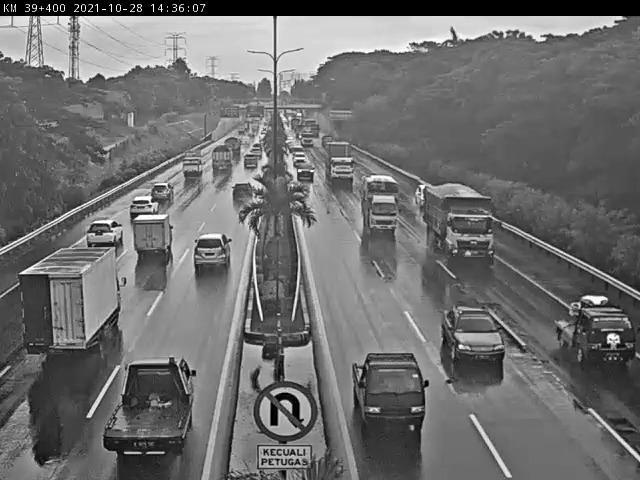big truck: (427, 193, 489, 257), (324, 140, 348, 178), (207, 150, 233, 176), (222, 137, 240, 154)
car: (104, 354, 196, 461), (348, 352, 435, 434), (561, 292, 638, 372), (442, 302, 506, 361), (184, 232, 234, 291), (75, 216, 115, 263), (151, 183, 179, 208), (231, 181, 253, 212), (128, 198, 155, 219), (415, 185, 437, 205), (297, 165, 316, 179), (290, 151, 305, 164), (247, 158, 256, 176), (250, 151, 258, 161)
small truck: (23, 246, 134, 375), (127, 211, 166, 264), (367, 191, 395, 223), (171, 163, 195, 182)
